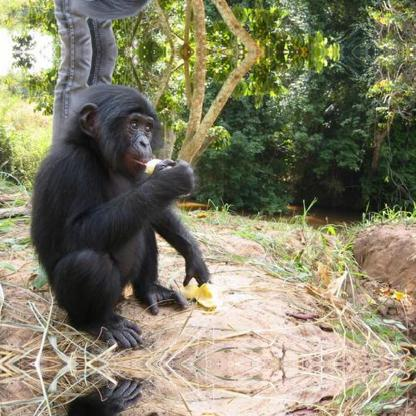Monkey: (30, 84, 210, 346)
